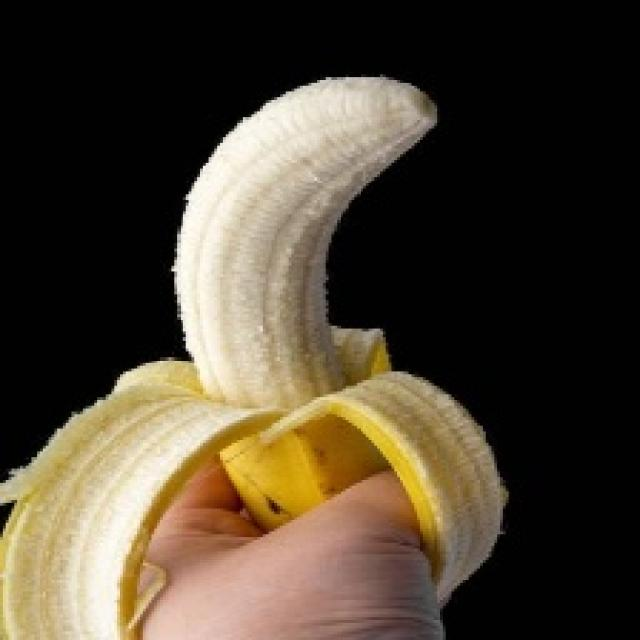Banana: (0, 72, 509, 637)
